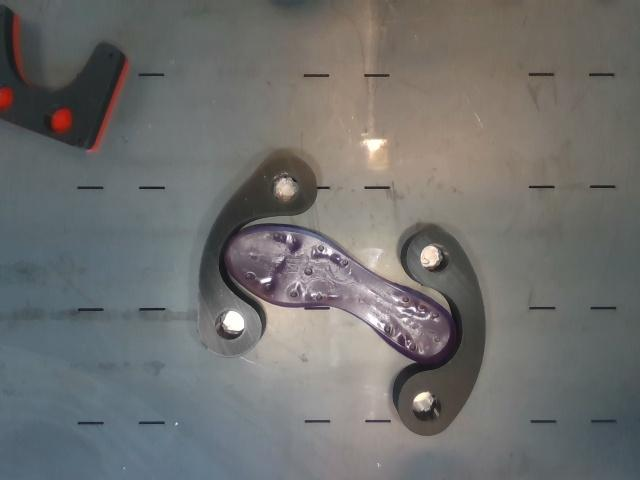shoes: (224, 224, 455, 362)
